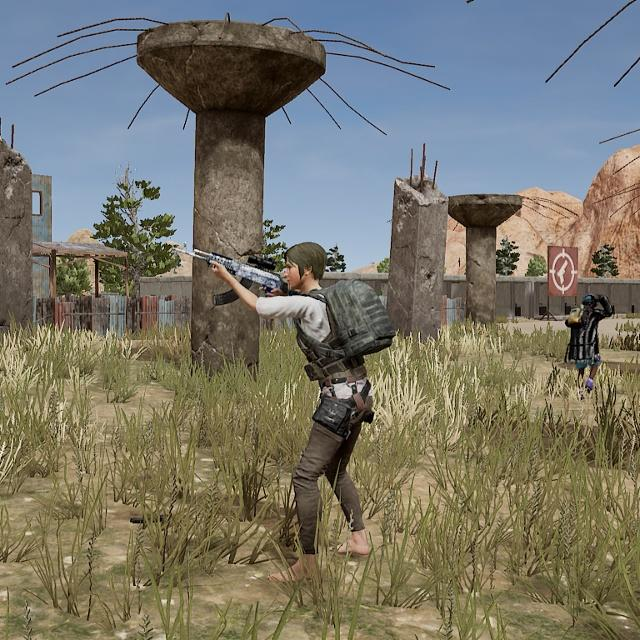head: (272, 237, 333, 302), (581, 289, 600, 312)
people: (235, 234, 396, 588), (564, 280, 620, 395)
